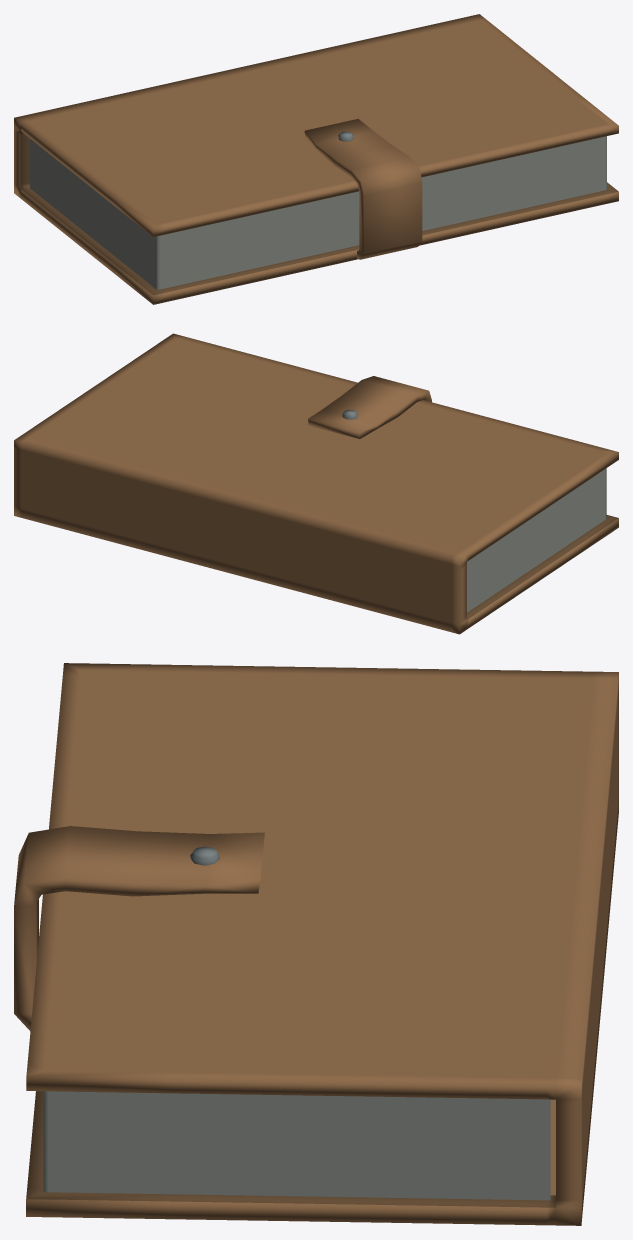
The model's file is notebook.fbx.
3 views of the same model, one above another, from view 1: azimuth 30°, elevation 25°; view 2: azimuth 150°, elevation 25°; view 3: azimuth 270°, elevation 25° (orthographic). The views are drawn at different scales.
Visible parts, largest first — view 1: notebook; view 2: notebook; view 3: notebook.
Part boxes in pixels (x1,y1,x2,y2): notebook: (14, 14, 618, 304); notebook: (14, 333, 618, 634); notebook: (14, 663, 618, 1225).
Bounding box in the file's own units: 30.89 × 5.53 × 18.7.
